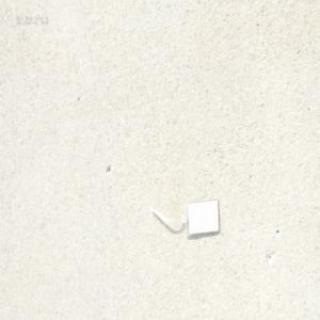LuggageTagtrack_idkeyframe: (143, 193, 220, 237)
